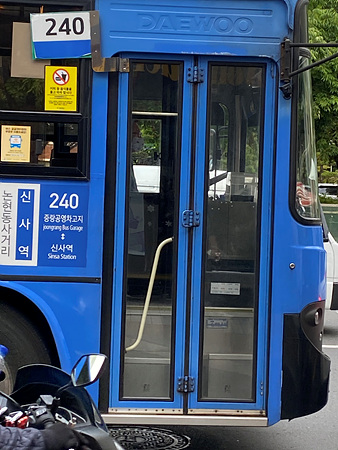entrance: (125, 54, 266, 409)
